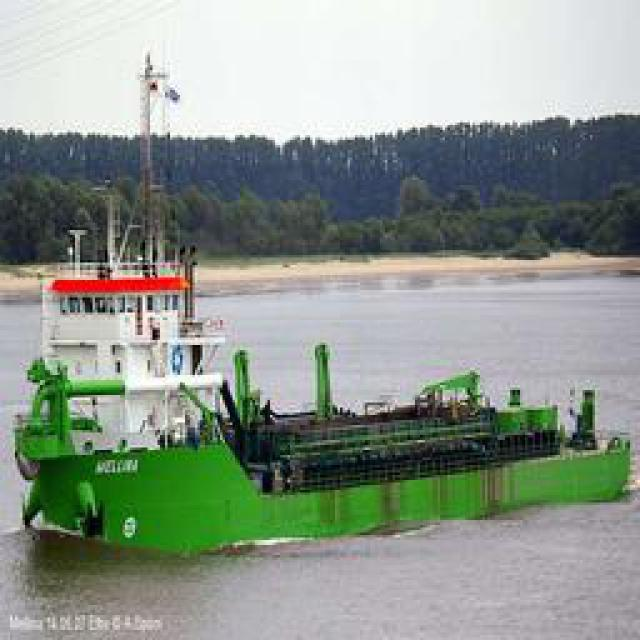Ship: (6, 48, 640, 561)
